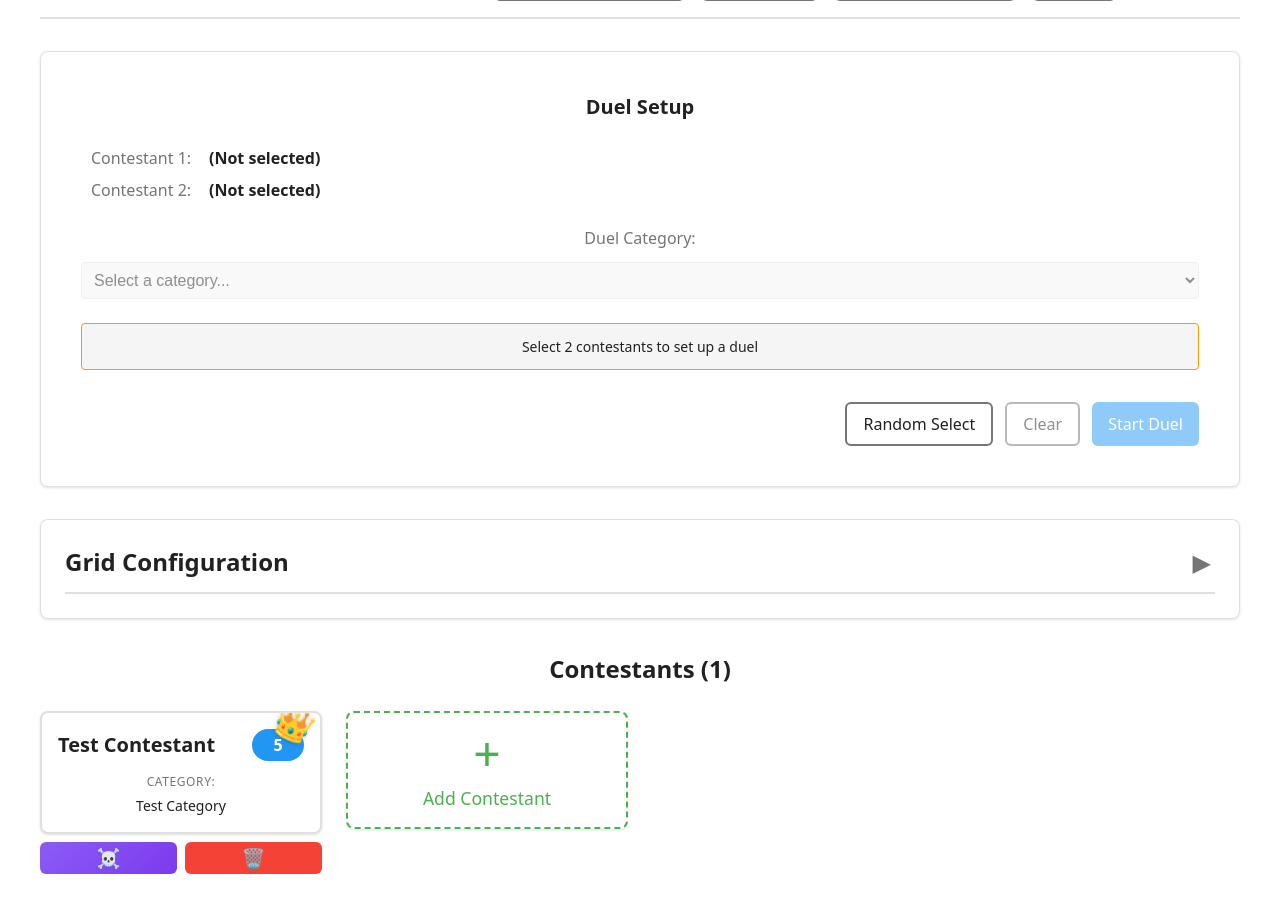
Test: Dashboard › cancels delete when Cancel button clicked
(page scrolled)
Click delete button
Click the button titled "Delete contestant permanently": (254, 858) [185,842,322,874]
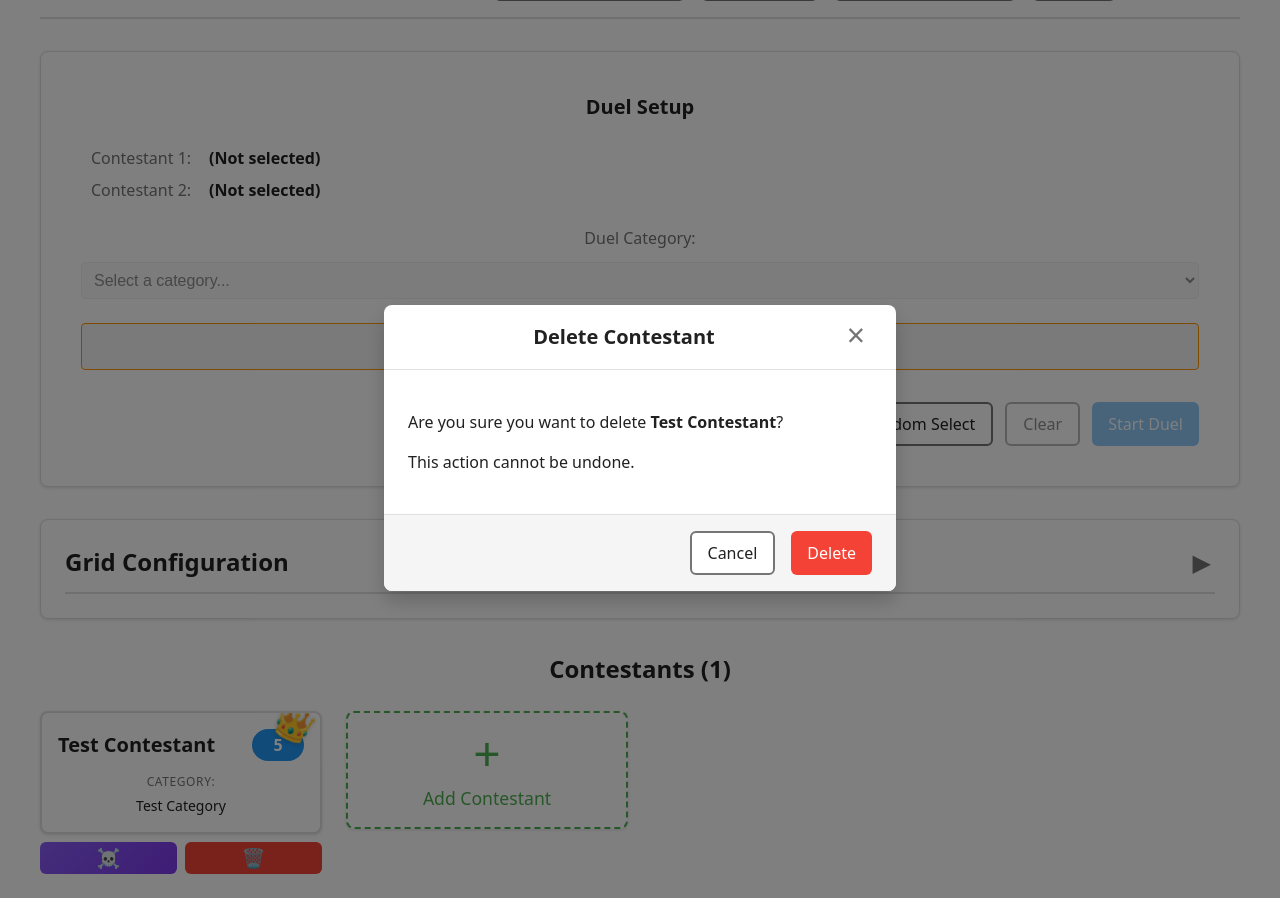
Check: the dialog "Delete Contestant" is shown, box [384,305,896,591]
Click the button "Cancel": (732, 553) [690,531,775,575]
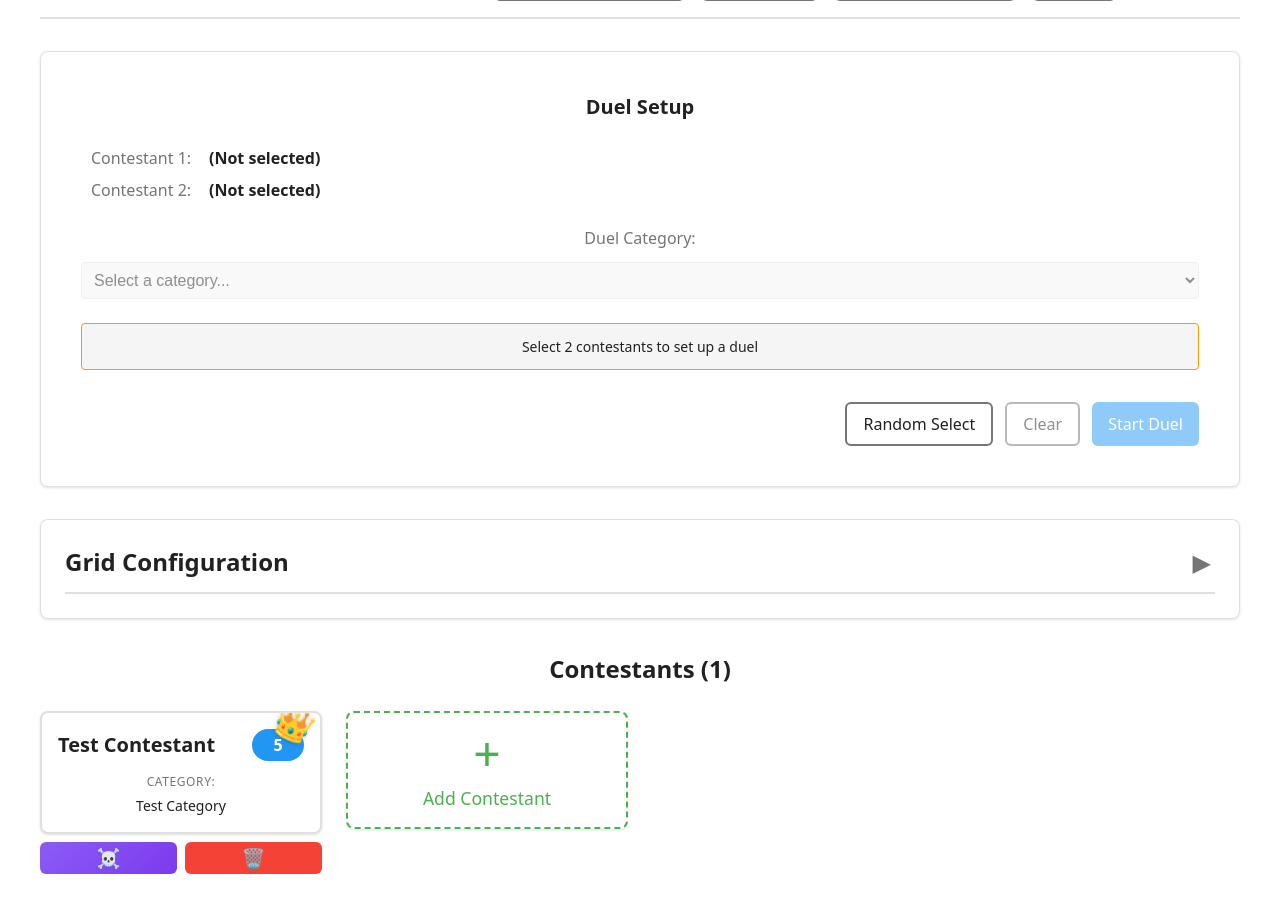
Check: the button "Delete Contestant" is gone
